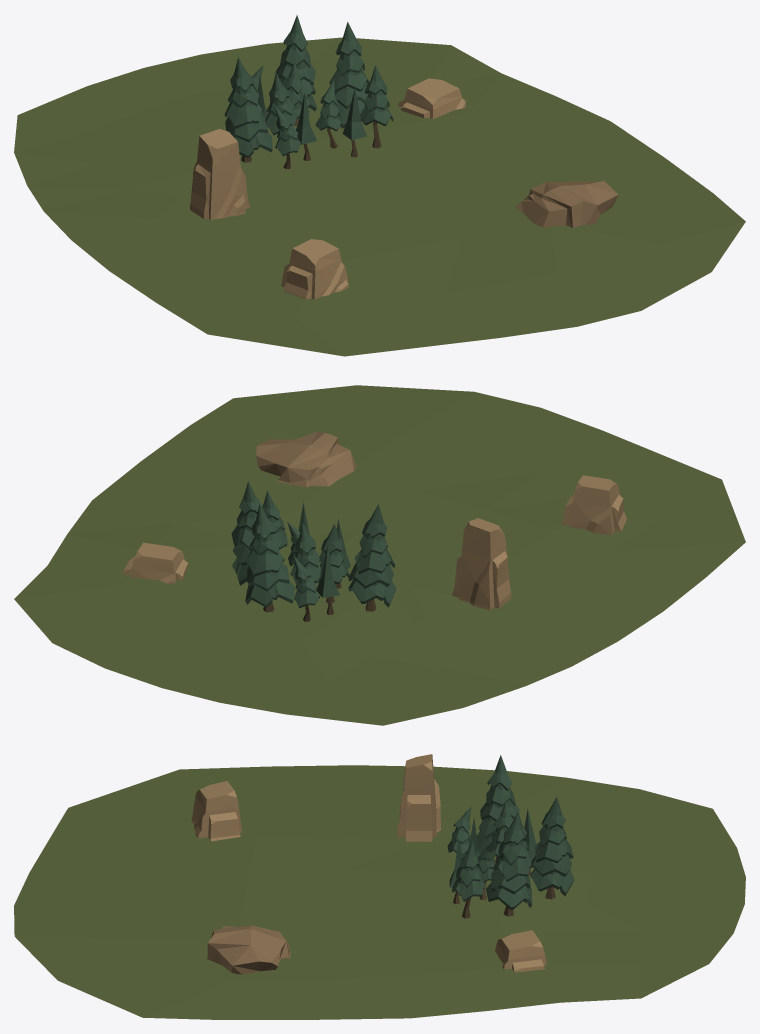
The model's file is PrototypeMap.glb.
3 renders of one model, top to bottom at view 1: azimuth 30°, elevation 25°; view 2: azimuth 150°, elevation 25°; view 3: azimuth 270°, elevation 25°, orthographic. The views are drawn at different scales.
Parts seen in each view (by area): view 1: Ground, SM_Env_TreePine_03 (×3), SM_Env_Rock_010, SM_Env_Rock_011, SM_Env_Rock_09, SM_Env_TreePine_01 (1) (×3), SM_Env_Rock_09 (1), SM_Env_TreePine_02 (×2), SM_Env_TreePine_04 (×2); view 2: Ground, SM_Env_TreePine_03 (×3), SM_Env_Rock_010, SM_Env_Rock_011, SM_Env_Rock_09, SM_Env_TreePine_01 (1) (×3), SM_Env_Rock_09 (1), SM_Env_TreePine_02, SM_Env_TreePine_04; view 3: Ground, SM_Env_TreePine_03 (×3), SM_Env_Rock_011, SM_Env_Rock_010, SM_Env_Rock_09, SM_Env_TreePine_01 (1) (×2), SM_Env_Rock_09 (1), SM_Env_TreePine_02 (×2).
Boxes of the visible parts, x1,y1,x2,y2 form: Ground: (14,37,745,356); SM_Env_TreePine_03 (×3): (224,15,369,162); SM_Env_Rock_010: (190,129,250,219); SM_Env_Rock_011: (515,181,618,227); SM_Env_Rock_09: (281,239,348,299); SM_Env_TreePine_01 (1) (×3): (265,62,393,150); SM_Env_Rock_09 (1): (398,78,466,118); SM_Env_TreePine_02 (×2): (274,79,343,168); SM_Env_TreePine_04 (×2): (296,88,367,160); Ground: (14,385,745,725); SM_Env_TreePine_03 (×3): (231,481,396,612); SM_Env_Rock_010: (452,518,511,610); SM_Env_Rock_011: (256,431,356,487); SM_Env_Rock_09: (561,475,627,535); SM_Env_TreePine_01 (1) (×3): (262,490,349,603); SM_Env_Rock_09 (1): (122,542,188,584); SM_Env_TreePine_02: (294,556,319,621); SM_Env_TreePine_04: (316,544,339,614); Ground: (14,765,745,1019); SM_Env_TreePine_03 (×3): (476,755,574,916); SM_Env_Rock_011: (207,925,290,974); SM_Env_Rock_010: (397,754,440,841); SM_Env_Rock_09: (191,781,241,841); SM_Env_TreePine_01 (1) (×2): (451,801,512,918); SM_Env_Rock_09 (1): (495,930,546,972); SM_Env_TreePine_02 (×2): (447,806,495,900).
Bounding box in the file's own units: 95.81 × 23.13 × 116.
Materials: 1 (1 with a texture image).
